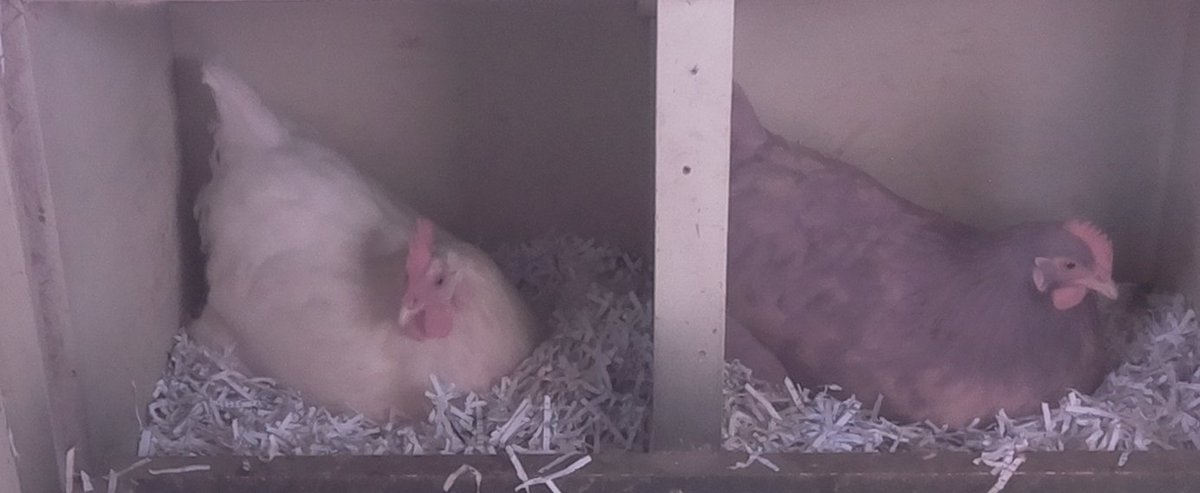hen: (732, 92, 1128, 435), (188, 54, 544, 434)
